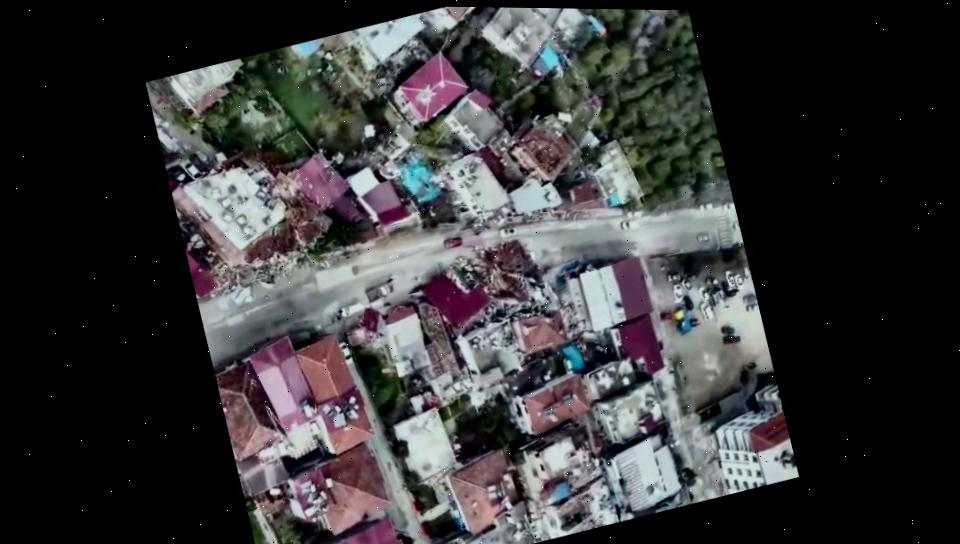kapali: (383, 219, 558, 304)
